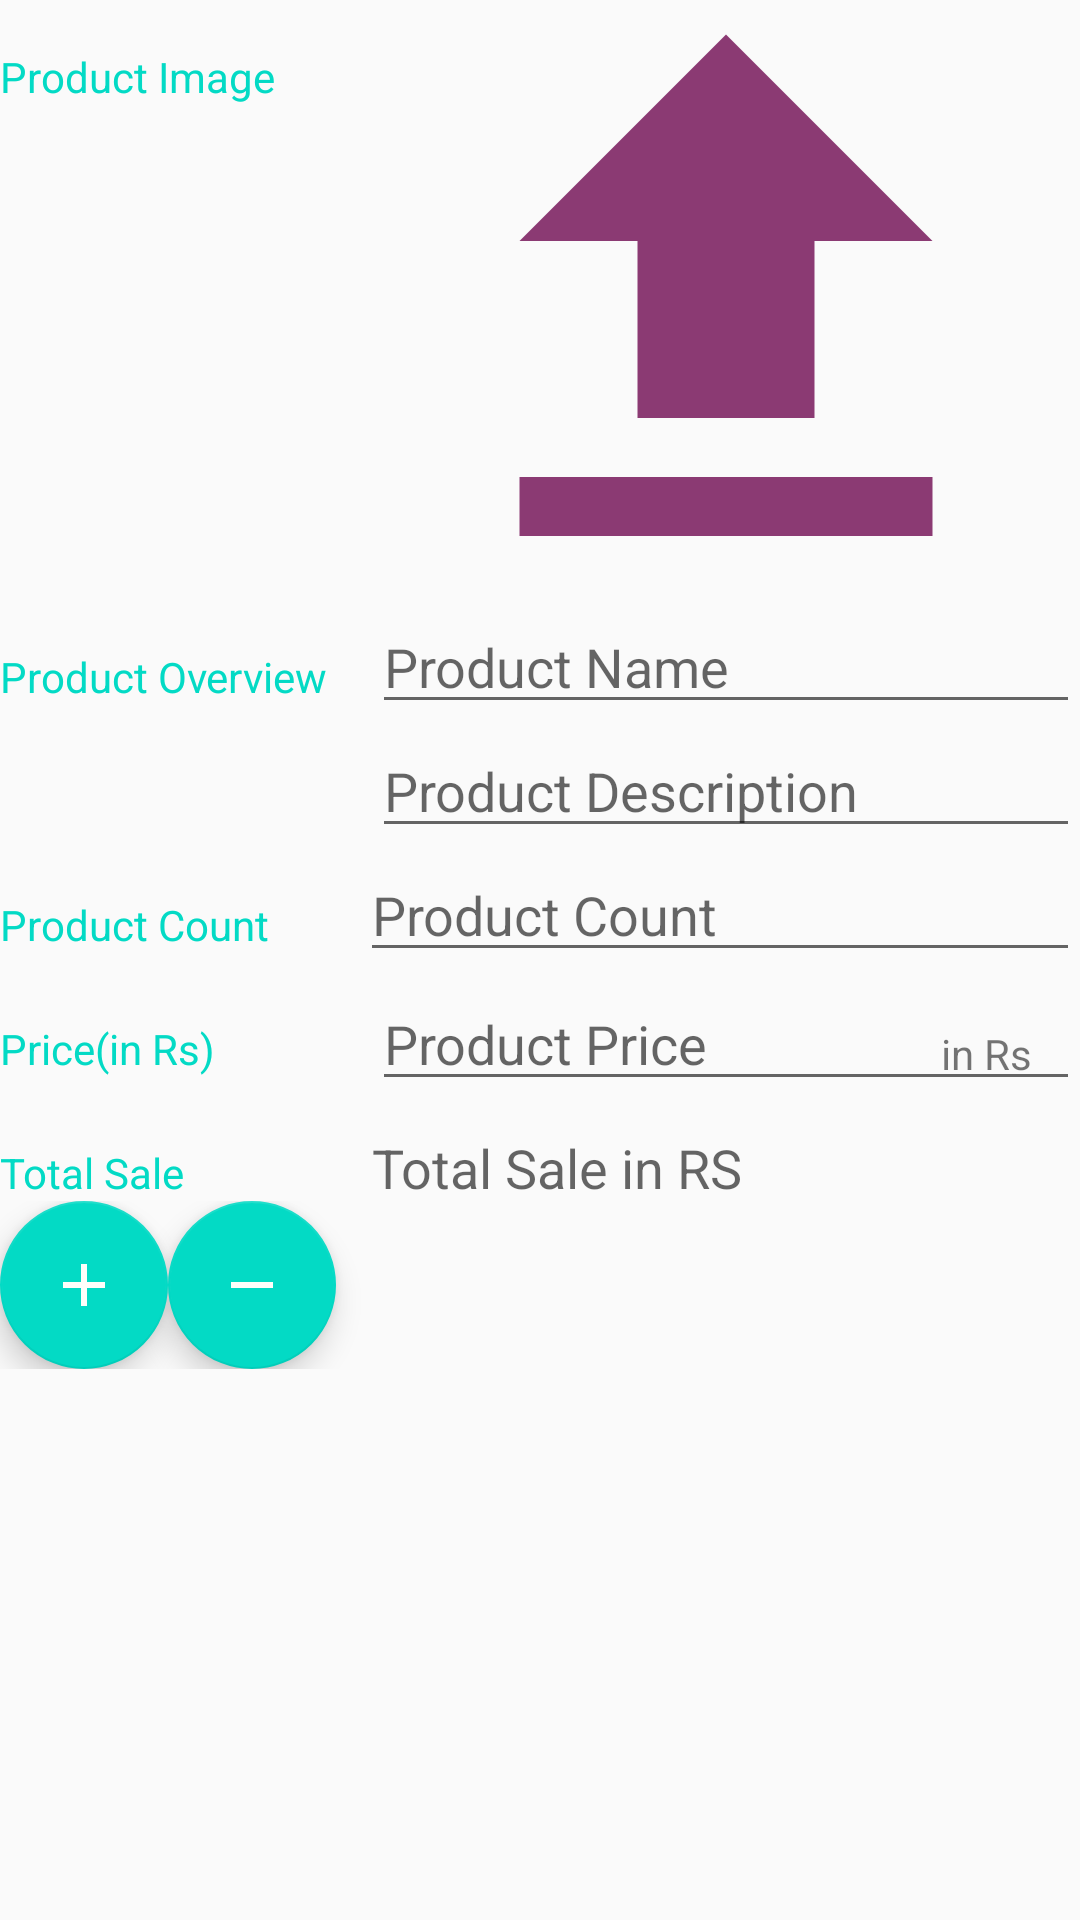

Icons on this 1080×1920 Android screen, each with the point to tap as [x,y]:
add: [84,1285]
minus: [252,1285]
